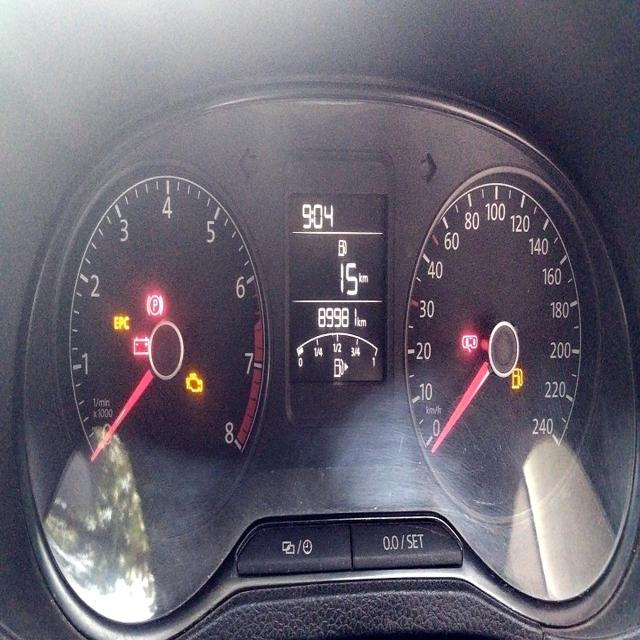odometer: (314, 301, 358, 333)
